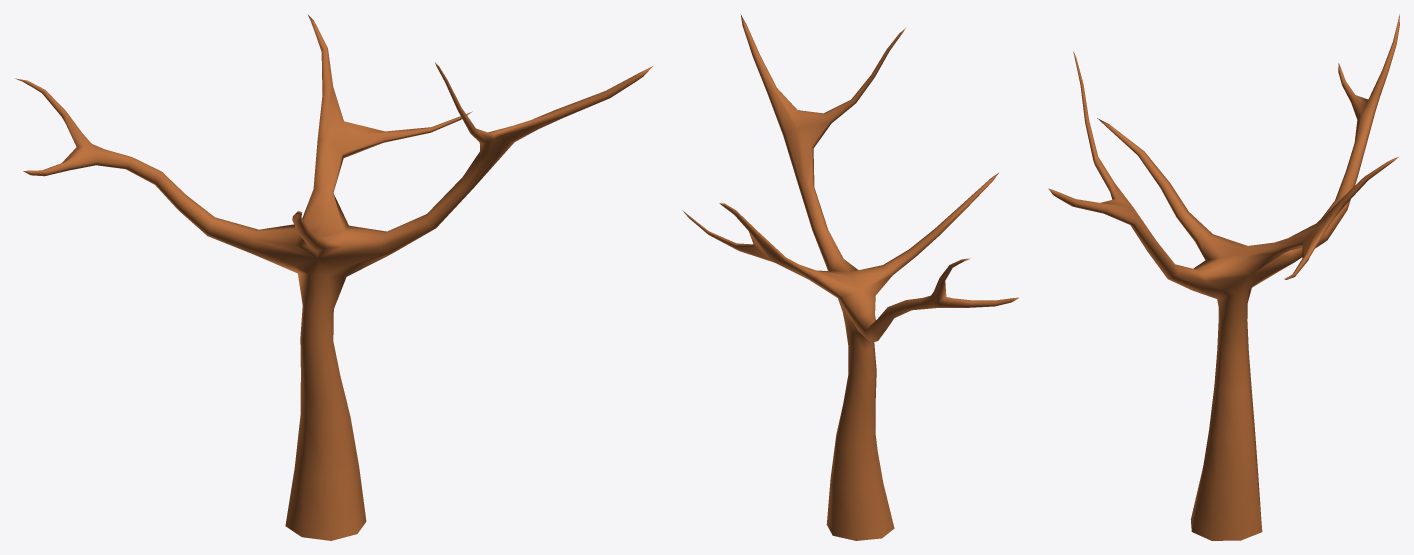
The model's file is DeadTree_B.fbx.
3 views of the same model, side by side, from view 1: azimuth 30°, elevation 25°; view 2: azimuth 150°, elevation 25°; view 3: azimuth 270°, elevation 25° (orthographic). The views are drawn at different scales.
Parts seen in each view (by area): view 1: Dead_Tree_m_01; view 2: Dead_Tree_m_01; view 3: Dead_Tree_m_01.
Part boxes in pixels (x1,y1,x2,y2): Dead_Tree_m_01: (15,15,652,540); Dead_Tree_m_01: (683,14,1018,540); Dead_Tree_m_01: (1048,14,1399,540).
Bounding box in the file's own units: 710 × 731 × 478.
